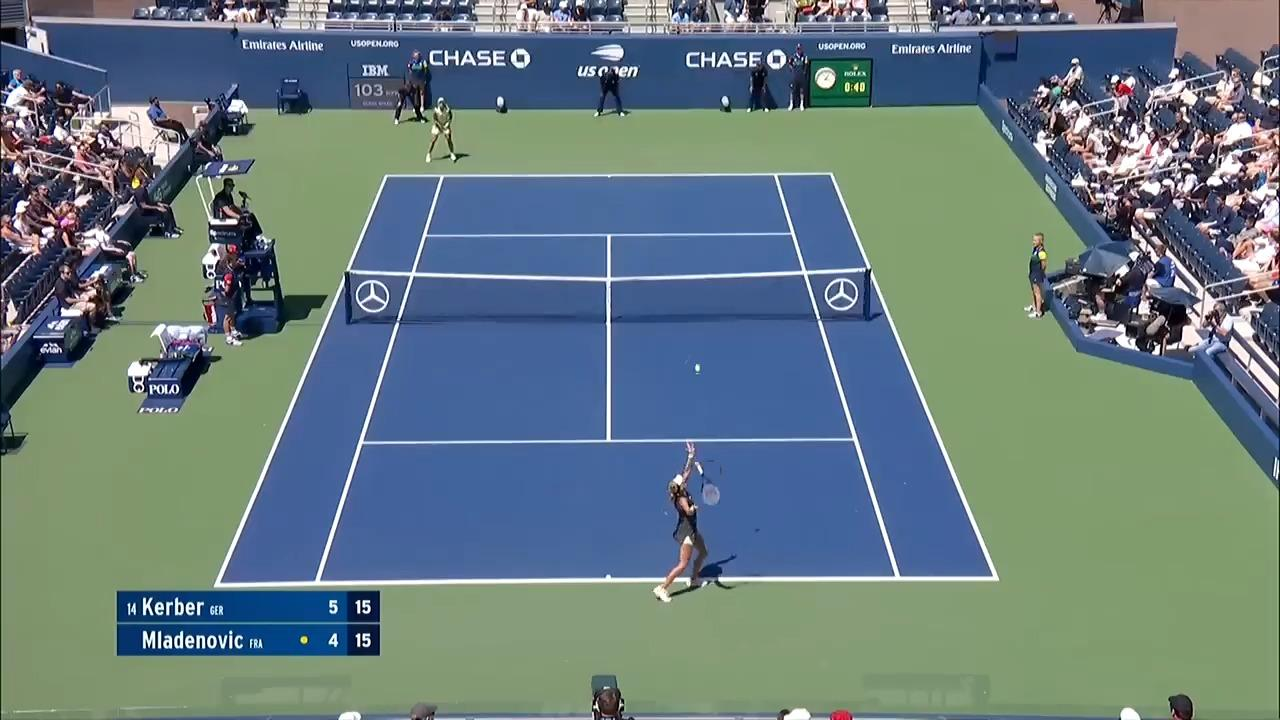tennis ball: (695, 365, 700, 373)
tennis racket: (695, 462, 720, 506)
